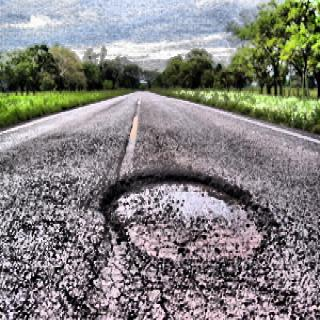alligator-crack: (71, 218, 265, 320)
pothole: (93, 170, 276, 272)
